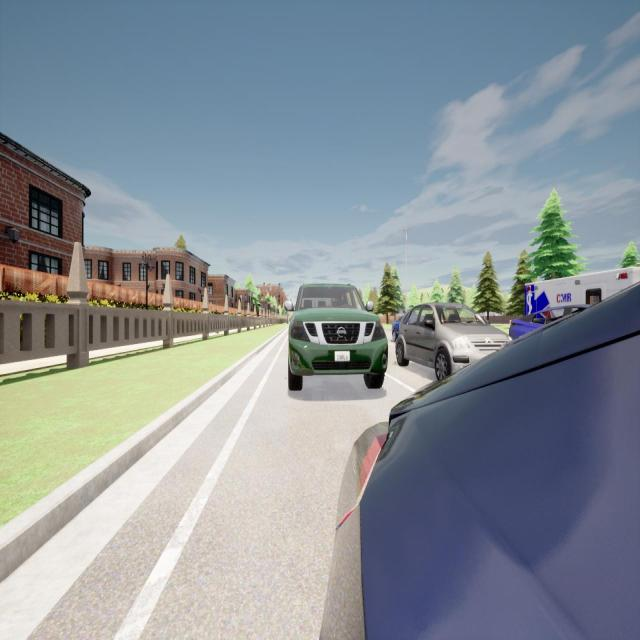Vehicle: (320, 283, 640, 638), (284, 282, 386, 392), (394, 306, 508, 372), (524, 265, 640, 315), (508, 308, 588, 337), (390, 314, 416, 341)
